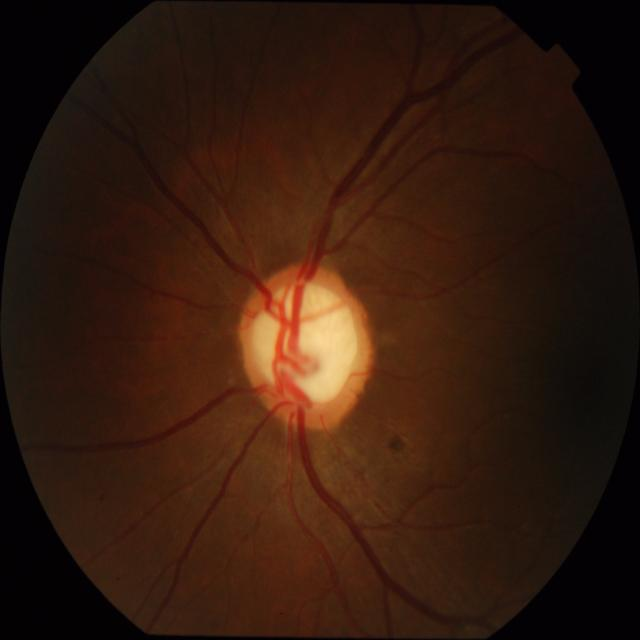OC: (251, 278, 359, 408)
OD: (239, 262, 375, 429)
